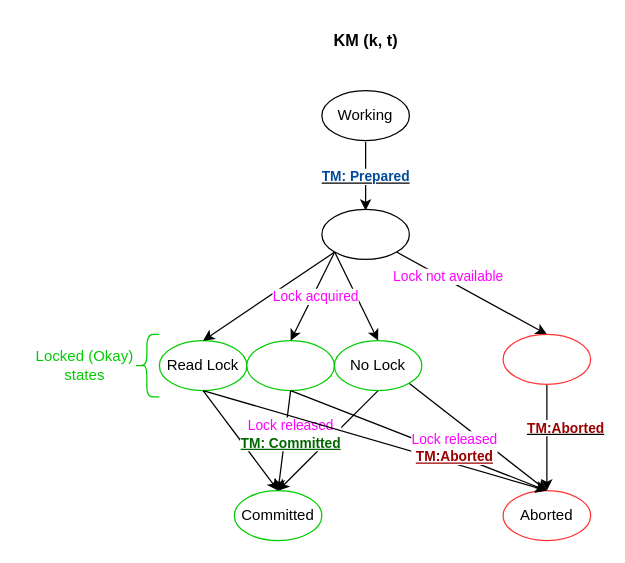
Some shapes in this 625 by 563 pixel diagram are drawn without their labels. Each missing label, with the box of its shape:
Not Okay: (502, 333, 591, 384)
Prepared: (321, 208, 409, 259)
Write Lock: (246, 339, 334, 391)
